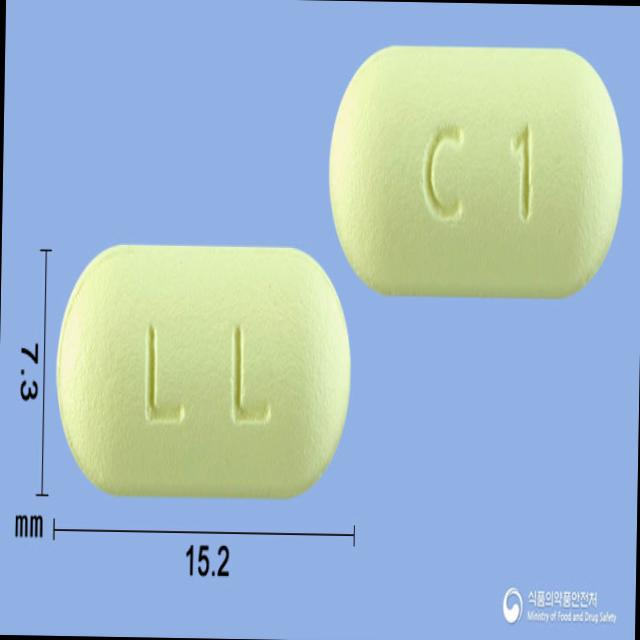Clratomin - 500mg: (54, 238, 354, 499), (326, 39, 626, 300)
